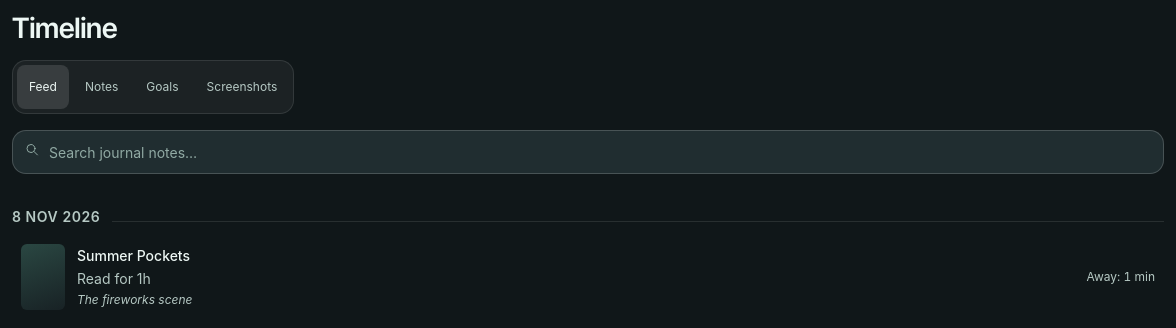
timeline screen › searches the journal from the timeline and returns to the feed when cleared
Expected: the text "Read for 1h" is shown, [77,270,151,287]
In the search field labelled "Search journal": (588, 152) [12,130,1164,174], type "fireworks"
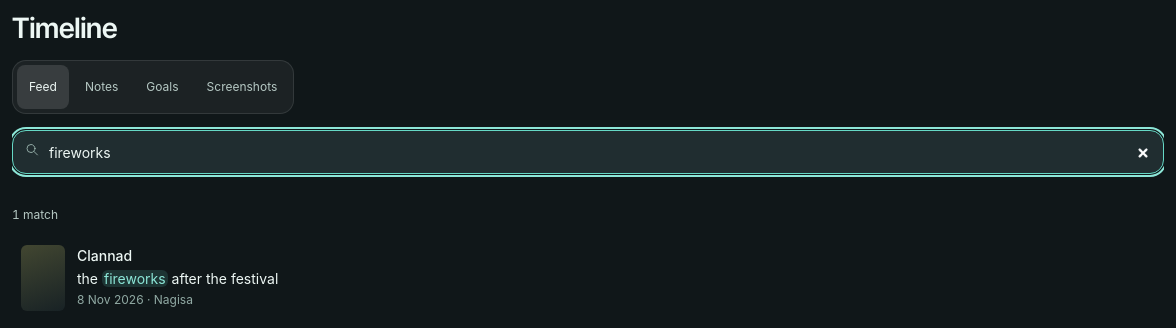
Result: the text "1 match" is shown at [12,207,58,222]
Result: the text "Clannad" is shown at [77,247,132,264]
Result: the link "Read for 1h" is gone
Clear the search field named "Search journal": (588, 152) [12,130,1164,174]
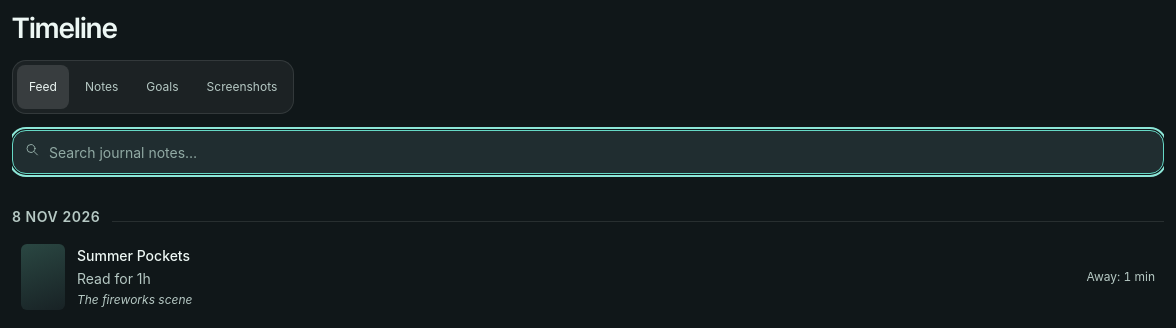
Result: the text "Read for 1h" is shown at [77,270,151,287]
Result: the text "1 match" is gone
